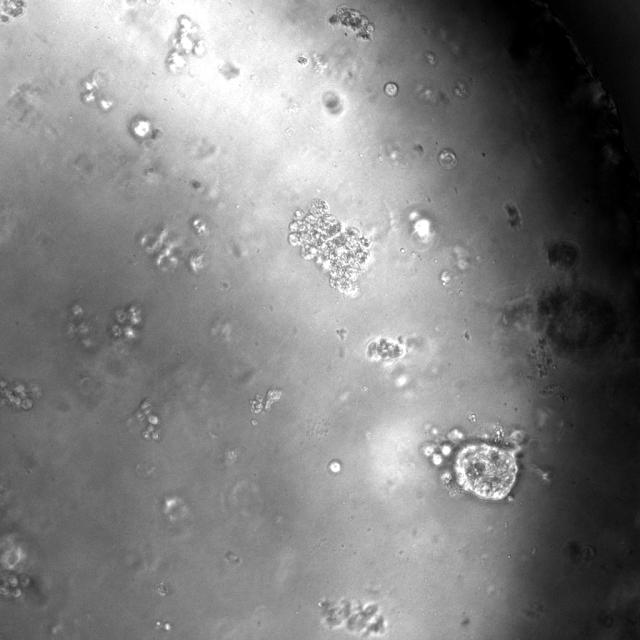organoid: (420, 426, 526, 501), (289, 199, 369, 297), (537, 286, 618, 356), (319, 599, 386, 636), (166, 15, 205, 72), (139, 226, 182, 270), (64, 302, 98, 348), (329, 6, 373, 38), (0, 376, 41, 410), (80, 70, 113, 111), (109, 304, 142, 339), (546, 239, 580, 271), (367, 336, 406, 361), (136, 398, 159, 440), (0, 570, 30, 598), (249, 389, 281, 413), (0, 0, 25, 22), (504, 204, 521, 227), (187, 253, 205, 274), (191, 217, 209, 237), (438, 149, 456, 168), (384, 81, 399, 96), (156, 582, 169, 596), (251, 419, 257, 425)
